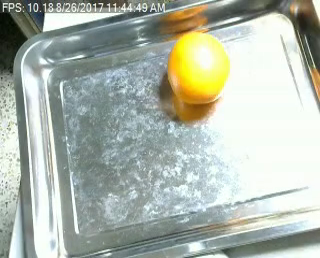Orange: (167, 31, 228, 104)
